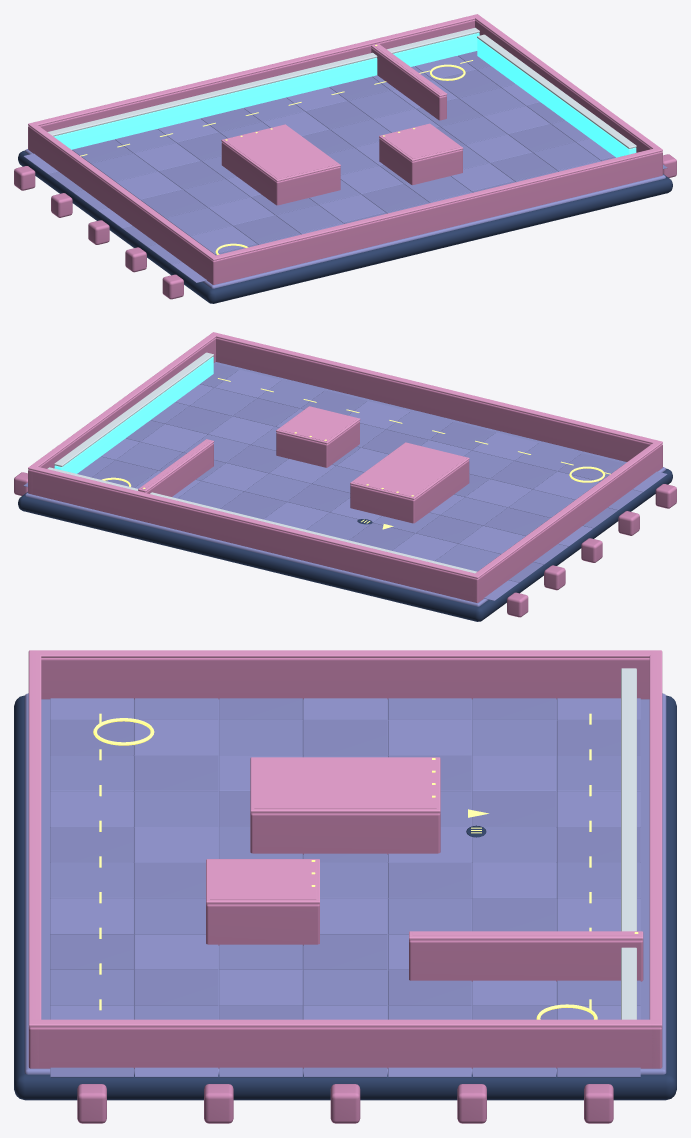
Rendered from citadel.glb.
3 renders of one model, top to bottom at view 1: azimuth 30°, elevation 25°; view 2: azimuth 150°, elevation 25°; view 3: azimuth 270°, elevation 25°, orthographic. The views are drawn at different scales.
Parts seen in each view (by area): view 1: SOLID 1 border, Floating island, SOLID 7 reflector, SOLID 2 border, SOLID 0 border, Roof trim, SOLID 4 cover, SOLID 8 reflector, SOLID crown 7 reflector, SOLID crown 1 border, SOLID crown 0 border, Ground (+57 smaller); view 2: SOLID 0 border, SOLID 1 border, Floating island, SOLID 2 border, Ground, Roof trim, SOLID 4 cover, SOLID 8 reflector, SOLID crown 0 border, SOLID crown 1 border, SOLID 5 cover, SOLID 3 border (+57 smaller); view 3: SOLID 3 border, SOLID 2 border, Floating island, Ground, Roof trim, SOLID 6 cover, SOLID 4 cover, SOLID crown 3 border, SOLID crown 7 reflector, SOLID crown 1 border, SOLID crown 0 border, SOLID crown 2 border (+82 smaller).
Part boxes in pixels (bbox=[...]): SOLID 1 border: bbox=[210, 152, 662, 284]; Floating island: bbox=[18, 150, 672, 303]; SOLID 7 reflector: bbox=[53, 32, 479, 149]; SOLID 2 border: bbox=[28, 126, 218, 284]; SOLID 0 border: bbox=[39, 19, 474, 131]; Roof trim: bbox=[224, 125, 337, 178]; SOLID 4 cover: bbox=[221, 142, 340, 205]; SOLID 8 reflector: bbox=[477, 38, 636, 157]; SOLID crown 7 reflector: bbox=[47, 27, 479, 136]; SOLID crown 1 border: bbox=[210, 147, 662, 260]; SOLID crown 0 border: bbox=[28, 14, 479, 125]; Ground: bbox=[25, 59, 665, 288]; SOLID 0 border: bbox=[29, 470, 480, 602]; SOLID 1 border: bbox=[216, 337, 662, 466]; Floating island: bbox=[18, 468, 672, 621]; SOLID 2 border: bbox=[472, 444, 662, 602]; Ground: bbox=[25, 362, 665, 606]; Roof trim: bbox=[353, 443, 466, 496]; SOLID 4 cover: bbox=[350, 460, 469, 523]; SOLID 8 reflector: bbox=[54, 356, 213, 473]; SOLID crown 0 border: bbox=[28, 465, 480, 578]; SOLID crown 1 border: bbox=[210, 332, 662, 443]; SOLID 5 cover: bbox=[276, 421, 359, 467]; SOLID 3 border: bbox=[28, 338, 215, 494]; SOLID 3 border: bbox=[28, 1027, 662, 1068]; SOLID 2 border: bbox=[41, 658, 649, 699]; Floating island: bbox=[14, 695, 676, 1100]; Ground: bbox=[24, 693, 666, 1074]; Roof trim: bbox=[254, 758, 436, 808]; SOLID 6 cover: bbox=[409, 940, 643, 981]; SOLID 4 cover: bbox=[250, 812, 440, 854]; SOLID crown 3 border: bbox=[28, 1019, 662, 1027]; SOLID crown 7 reflector: bbox=[621, 668, 636, 1019]; SOLID crown 1 border: bbox=[28, 650, 41, 1026]; SOLID crown 0 border: bbox=[649, 650, 662, 1027]; SOLID crown 2 border: bbox=[28, 650, 662, 657].
Size of the model in its own units: 23.7 by 2.03 by 15.7.
